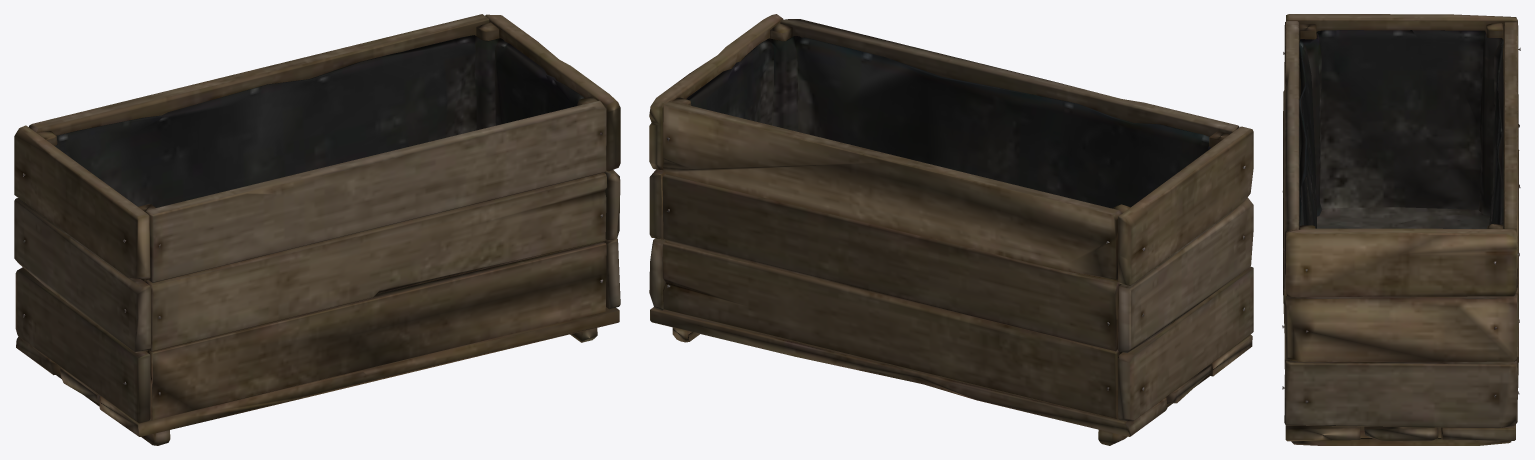
The model's file is planter_box_01.glb.
3 renders of one model, left to right at view 1: azimuth 30°, elevation 25°; view 2: azimuth 150°, elevation 25°; view 3: azimuth 270°, elevation 25°, orthographic. The views are drawn at different scales.
Visible parts, largest first — view 1: planter_box_01; view 2: planter_box_01; view 3: planter_box_01.
Boxes of the visible parts, x1,y1,x2,y2 form: planter_box_01: [14, 14, 620, 445]; planter_box_01: [649, 14, 1253, 445]; planter_box_01: [1282, 14, 1520, 445].
Size of the model in its own units: 0.9126 by 0.4249 by 0.4135.
Materials: 1 (1 with a texture image).
